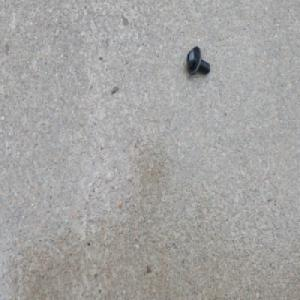BoltWasher: (185, 44, 210, 76)
